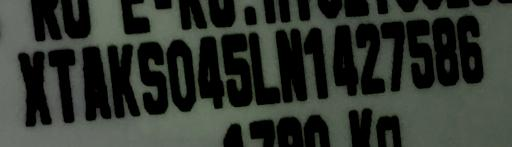letter: (14, 49, 54, 128), (103, 42, 143, 119), (134, 39, 170, 116), (246, 30, 282, 105), (219, 32, 253, 111), (353, 20, 387, 95), (274, 28, 308, 103), (164, 37, 198, 112), (78, 45, 112, 120), (194, 34, 226, 113), (46, 47, 78, 126), (404, 17, 436, 92), (454, 13, 486, 84), (429, 16, 461, 87), (330, 23, 360, 98), (378, 18, 408, 91), (302, 24, 328, 101)
